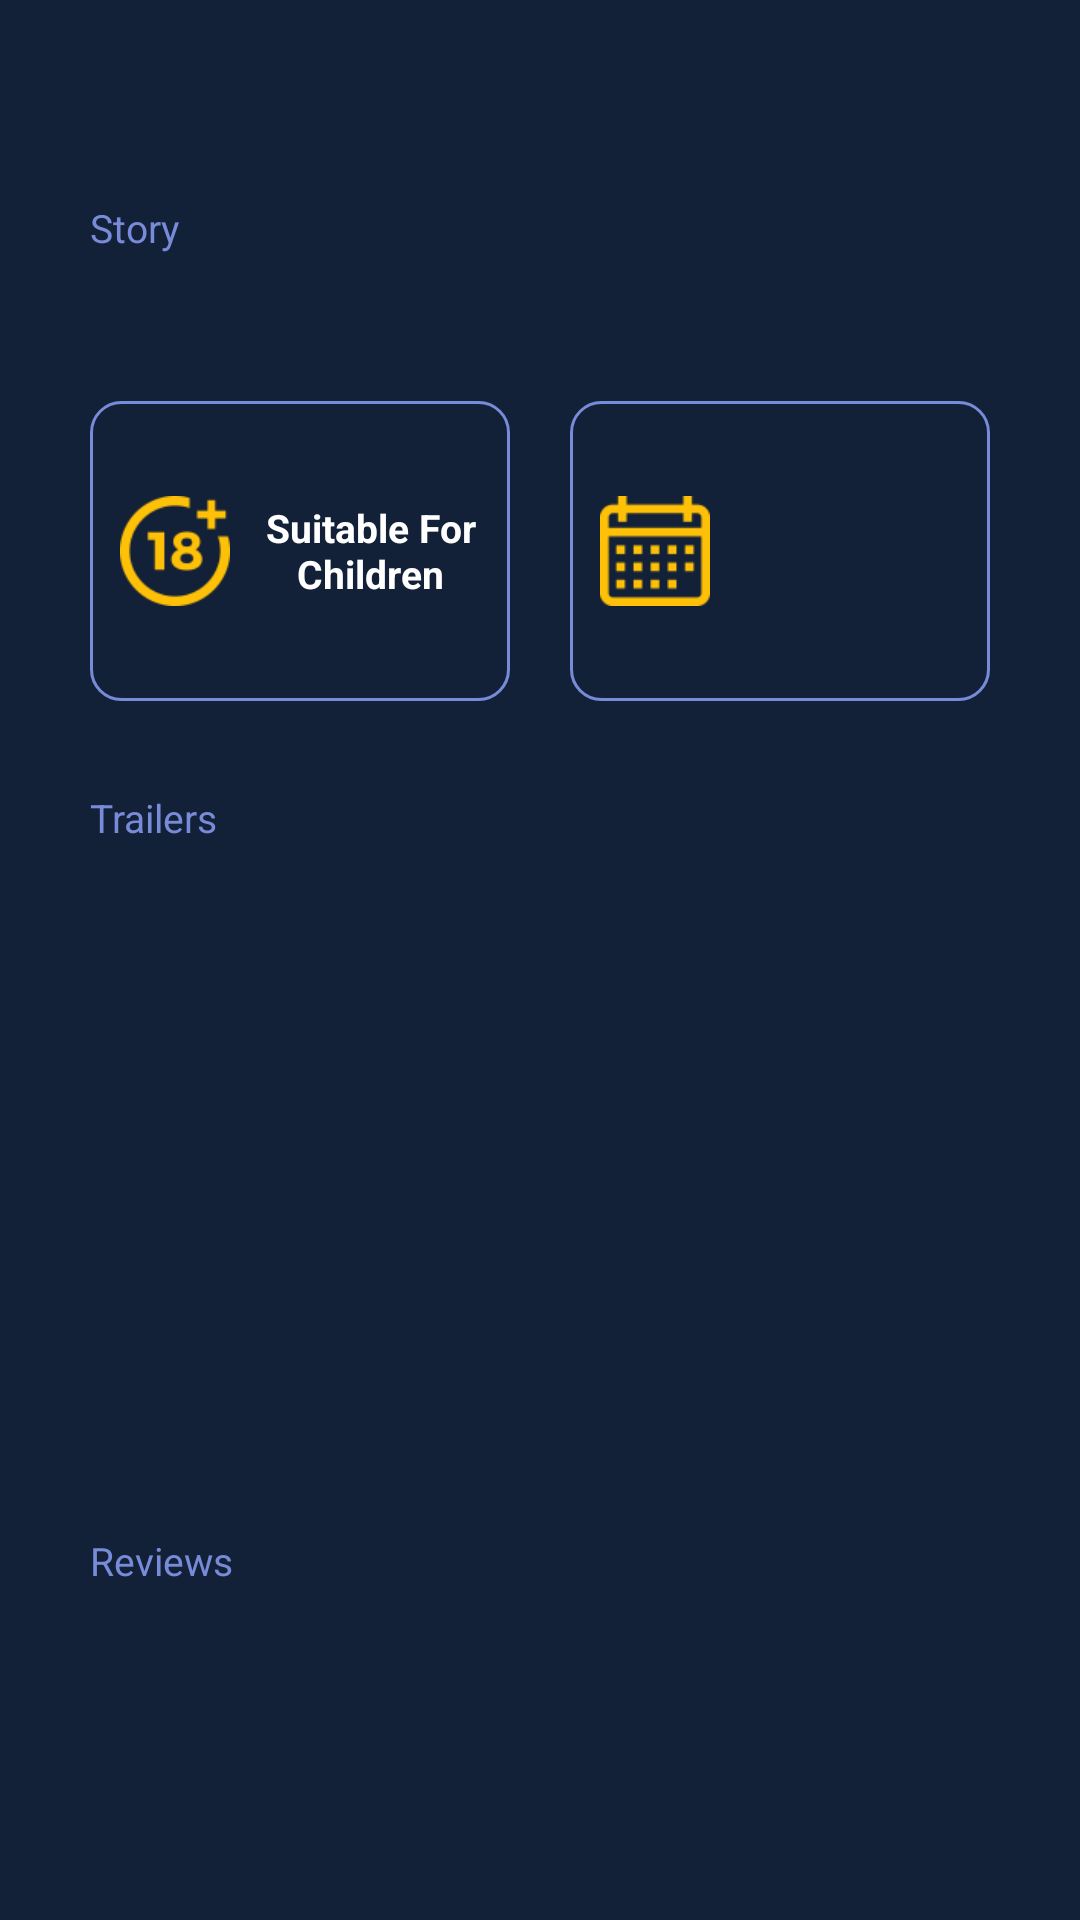

Icons on this 1080*1920 Android screen, each with its box as (x1, y1, x2, y2):
adult: (120, 496, 230, 606)
date: (600, 496, 710, 606)
